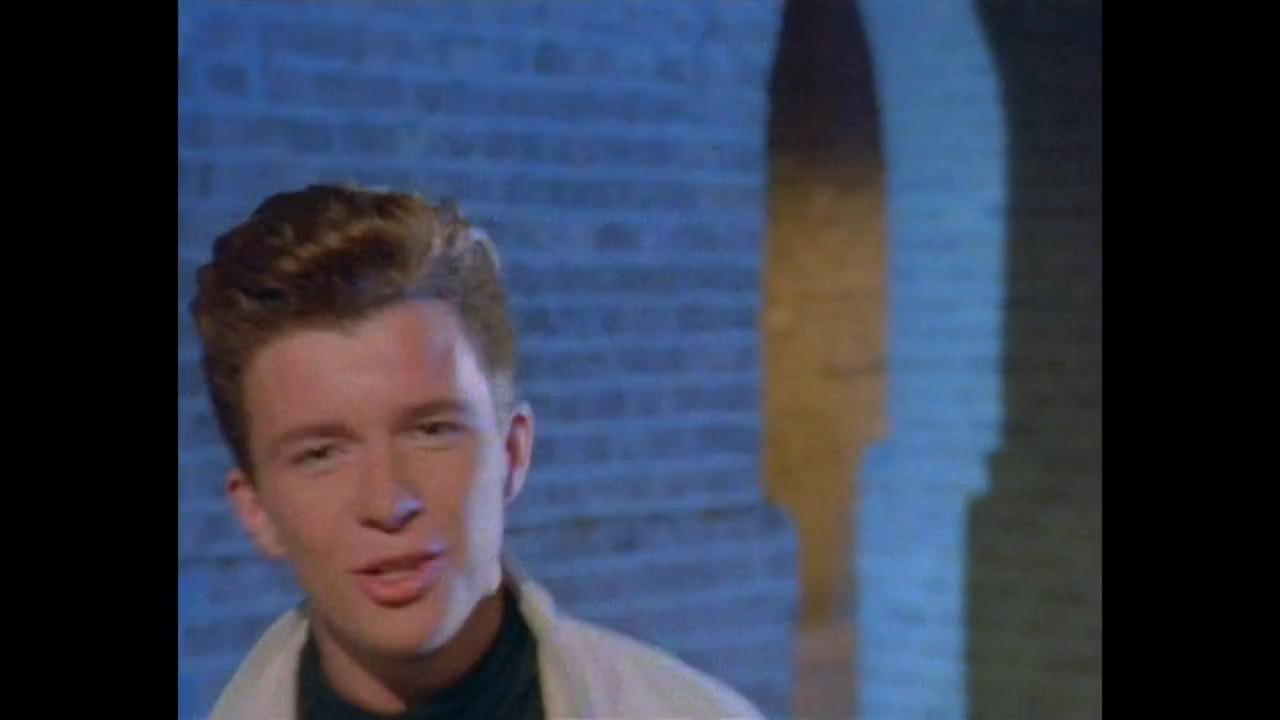safety_helmet: (187, 179, 769, 717), (190, 179, 536, 661), (190, 180, 520, 484)
